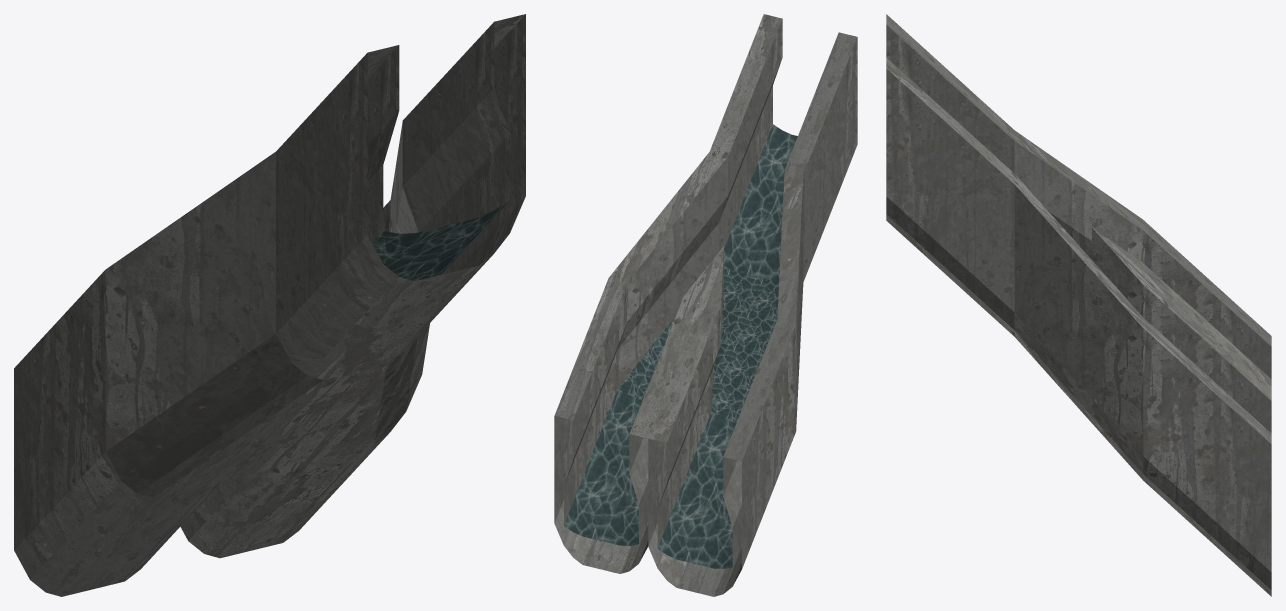
The model's file is Dragonfly_IceSlide_Straight_Splitter.fbx.
3 renders of one model, left to right at view 1: azimuth 30°, elevation 25°; view 2: azimuth 150°, elevation 25°; view 3: azimuth 270°, elevation 25°, orthographic. The views are drawn at different scales.
Parts seen in each view (by area): view 1: Slide Splitter; view 2: Slide Splitter; view 3: Slide Splitter.
Boxes of the visible parts, <box> form: Slide Splitter: <box>14,14,525,596</box>; Slide Splitter: <box>554,14,857,596</box>; Slide Splitter: <box>886,14,1271,596</box>.
Size of the model in its own units: 20 by 44.5 by 30.
